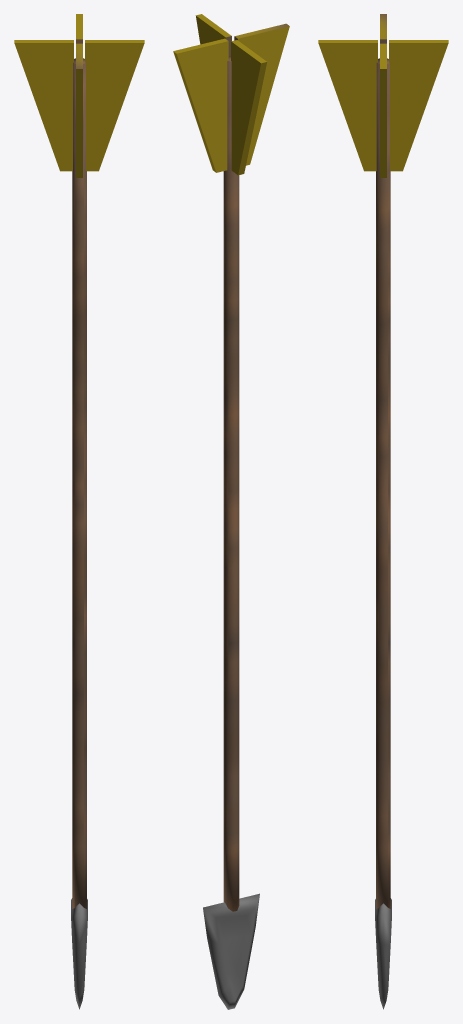
The model's file is flecha.fbx.
The picture shows the model from 3 angles, left to right: view 1: azimuth 90°, elevation 25°; view 2: azimuth 210°, elevation 25°; view 3: azimuth 270°, elevation 25°; orthographic projection.
Parts seen in each view (by area): view 1: flecha; view 2: flecha; view 3: flecha.
Boxes of the visible parts, x1,y1,x2,y2 form: flecha: (14, 14, 144, 1009); flecha: (173, 14, 289, 1009); flecha: (318, 14, 448, 1009).
Size of the model in its own units: 0.8955 by 7.33 by 0.8955.
1 material, 1 textured.
